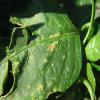Bell_pepper leaf spot: (0, 6, 83, 100)
